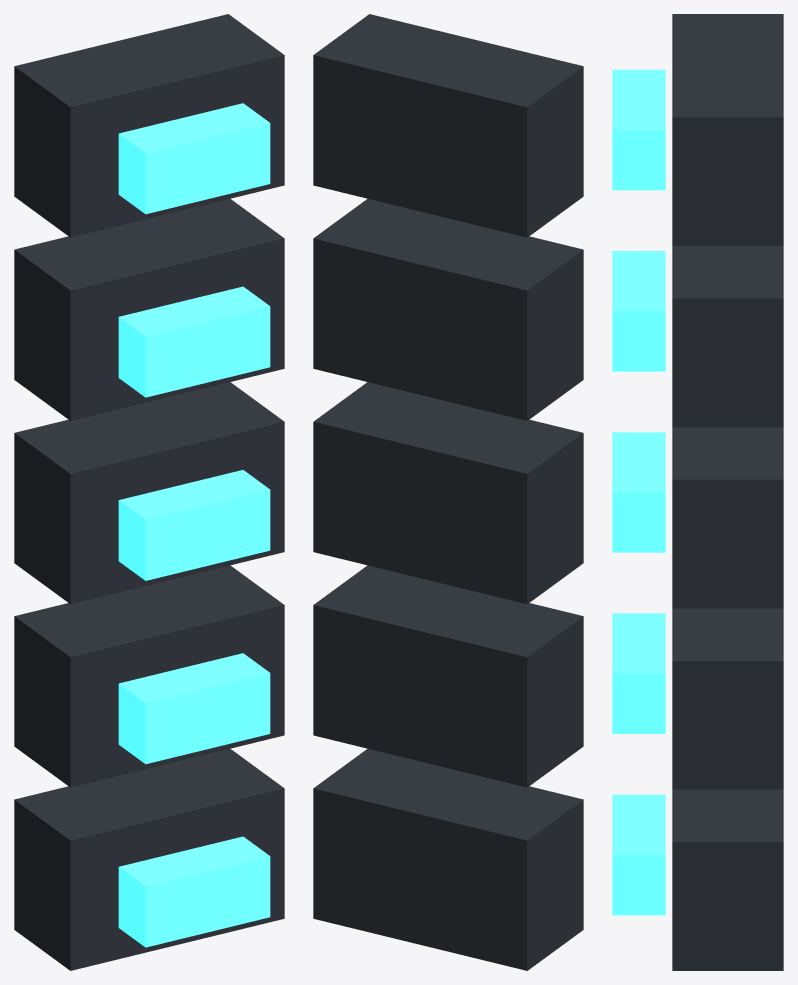
The model's file is spine_interface.glb.
The picture shows the model from 3 angles, left to right: view 1: azimuth 30°, elevation 25°; view 2: azimuth 150°, elevation 25°; view 3: azimuth 270°, elevation 25°; orthographic projection.
Visible parts, largest first — view 1: part_008, part_000, part_002, part_006, part_004, part_001, part_003, part_005, part_007, part_009; view 2: part_008, part_000, part_002, part_006, part_004; view 3: part_008, part_000, part_002, part_004, part_006, part_001, part_009, part_003, part_005, part_007.
Boxes of the visible parts, bbox=[...] form: part_008: bbox=[14, 14, 284, 237]; part_000: bbox=[14, 748, 284, 970]; part_002: bbox=[14, 565, 284, 787]; part_006: bbox=[14, 198, 284, 420]; part_004: bbox=[14, 382, 284, 604]; part_001: bbox=[118, 836, 270, 947]; part_003: bbox=[118, 653, 270, 764]; part_005: bbox=[118, 470, 270, 580]; part_007: bbox=[118, 286, 270, 397]; part_009: bbox=[118, 103, 270, 214]; part_008: bbox=[313, 14, 583, 237]; part_000: bbox=[313, 748, 583, 970]; part_002: bbox=[313, 565, 583, 787]; part_006: bbox=[313, 198, 583, 420]; part_004: bbox=[313, 382, 583, 604]; part_008: bbox=[672, 14, 783, 245]; part_000: bbox=[672, 789, 783, 970]; part_002: bbox=[672, 608, 783, 789]; part_004: bbox=[672, 427, 783, 608]; part_006: bbox=[672, 246, 783, 427]; part_001: bbox=[612, 794, 665, 915]; part_009: bbox=[612, 69, 665, 190]; part_003: bbox=[612, 613, 665, 733]; part_005: bbox=[612, 432, 665, 552]; part_007: bbox=[612, 251, 665, 371].
Size of the model in its own units: 0.055 by 0.212 by 0.0385.
